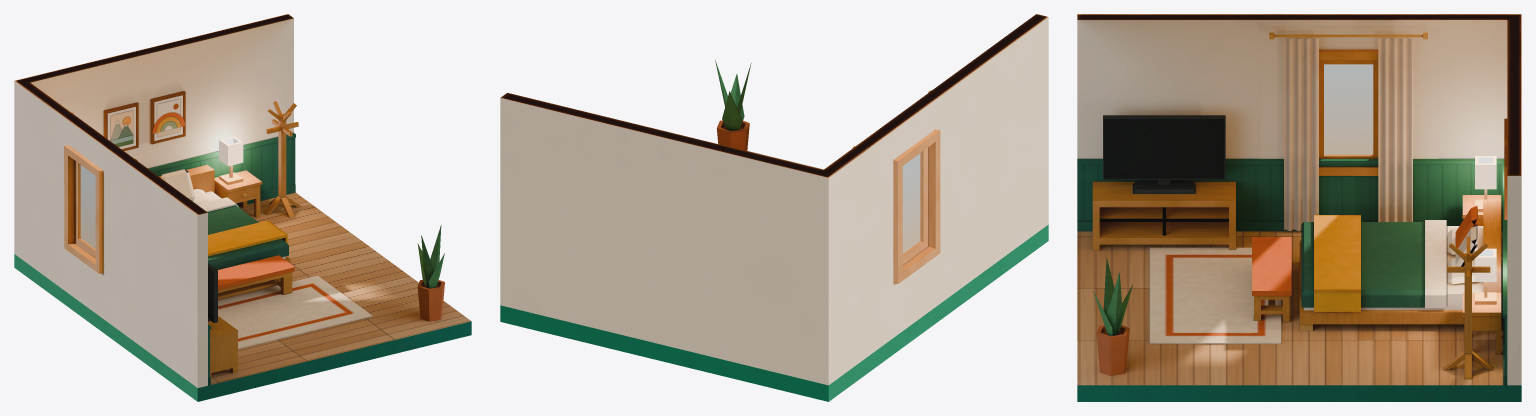
The model's file is doble-estandar.glb.
3 views of the same model, side by side, from view 1: azimuth 30°, elevation 25°; view 2: azimuth 150°, elevation 25°; view 3: azimuth 270°, elevation 25° (orthographic). The views are drawn at different scales.
Visible parts, largest first — view 1: Horneado doble-estandar; view 2: Horneado doble-estandar; view 3: Horneado doble-estandar.
Boxes of the visible parts, x1,y1,x2,y2 form: Horneado doble-estandar: [14, 14, 471, 401]; Horneado doble-estandar: [500, 14, 1048, 401]; Horneado doble-estandar: [1077, 14, 1521, 401].
Bounding box in the file's own units: 3.79 × 2.44 × 4.34.
Materials: 1 (1 with a texture image).
